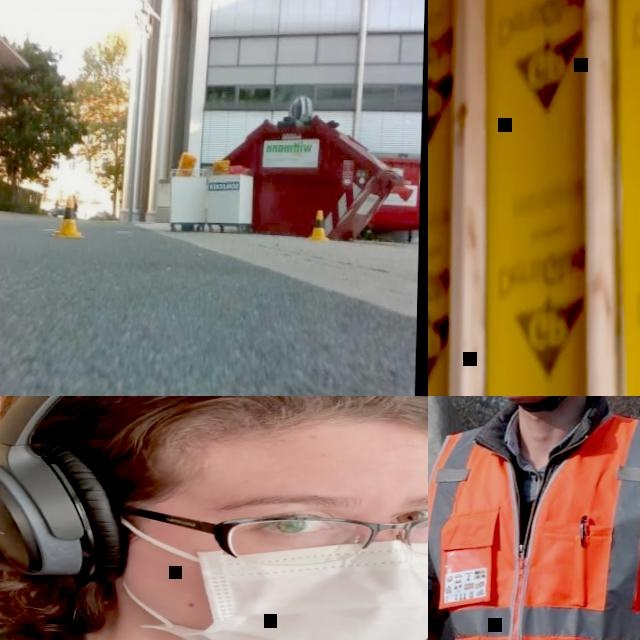Mask: (109, 533, 428, 640)
NO-Hardhat: (5, 396, 428, 448)
Person: (0, 396, 428, 640), (428, 396, 640, 640)
Safety Cone: (52, 196, 84, 237), (309, 210, 330, 242)
Safety Vest: (428, 410, 640, 640)
